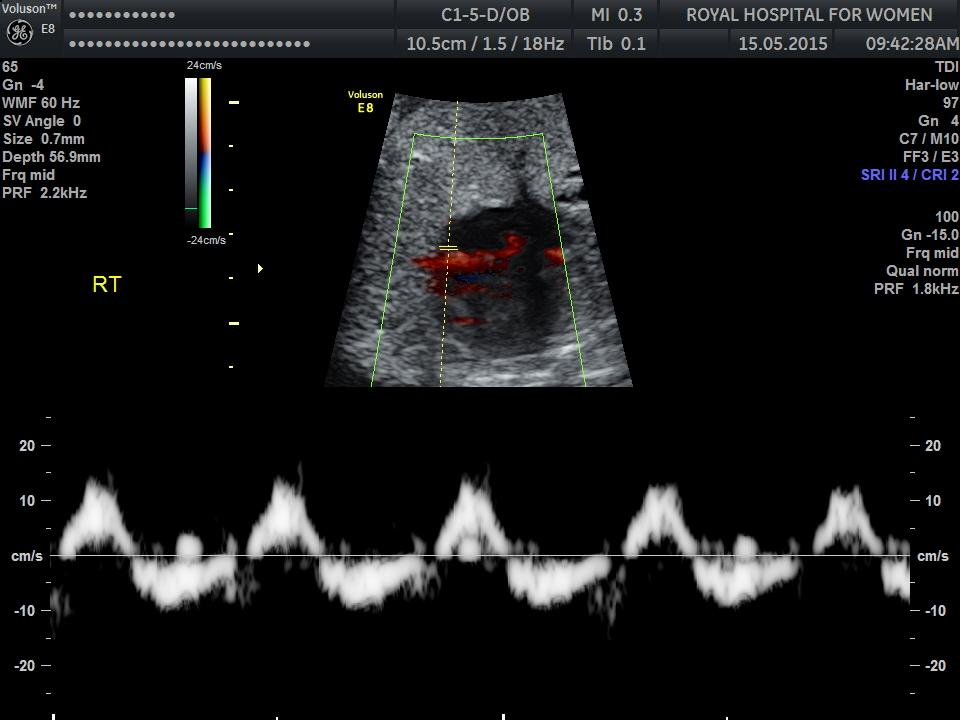Ultrasound-Waves: (51, 413, 910, 720)
